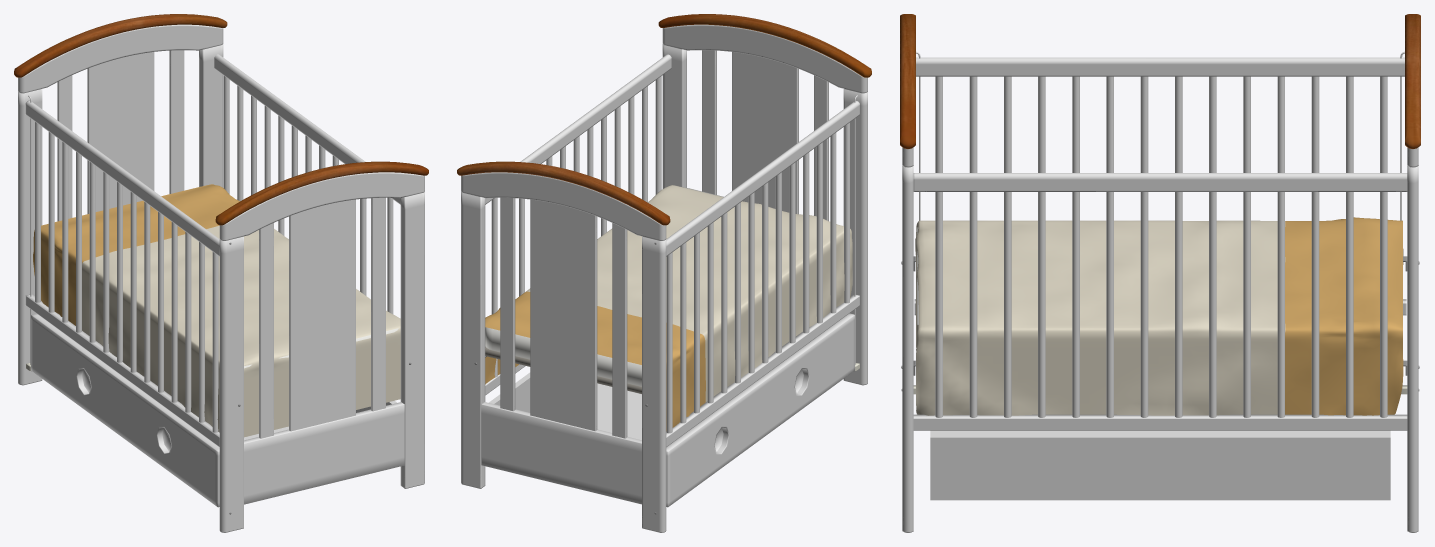
File: sh_scopia_crib.glb
The picture shows the model from 3 angles, left to right: view 1: azimuth 30°, elevation 25°; view 2: azimuth 150°, elevation 25°; view 3: azimuth 270°, elevation 25°; orthographic projection. The views are drawn at different scales.
Bounding box in the file's own units: 0.728 × 1.11 × 1.24.
Materials: 13 (1 with a texture image).
